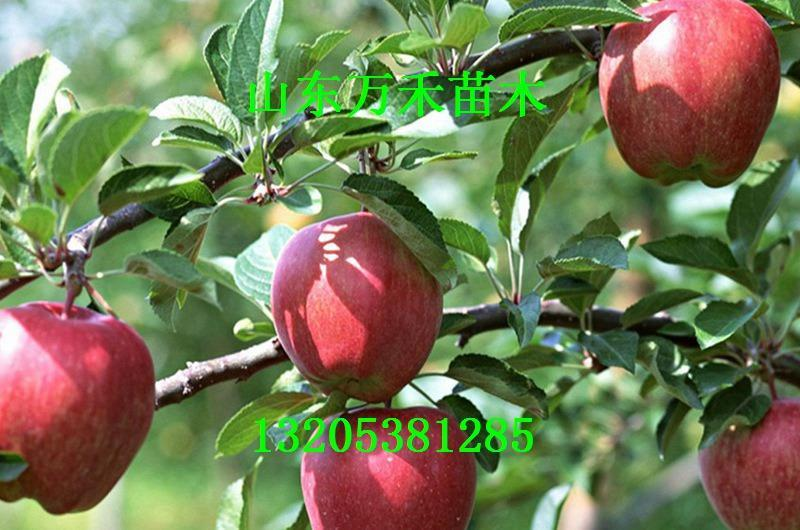apple: (597, 2, 781, 188), (1, 302, 155, 517), (268, 210, 442, 400), (297, 403, 480, 527), (696, 401, 798, 526)
